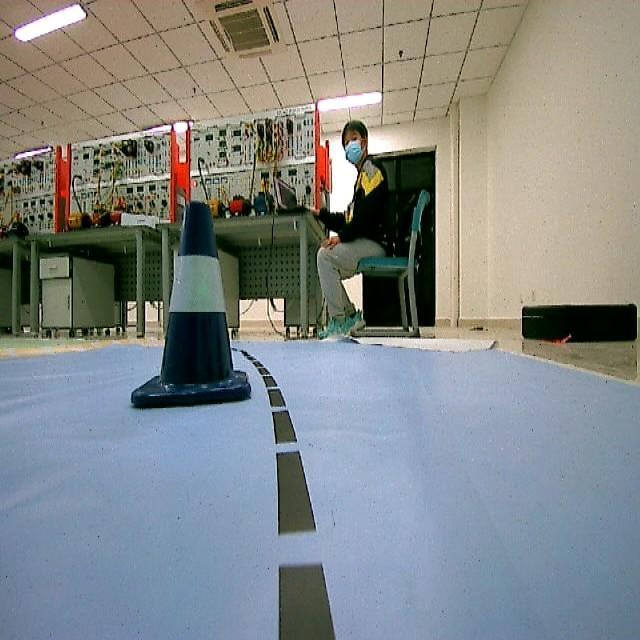obstacle: (134, 198, 254, 410)
